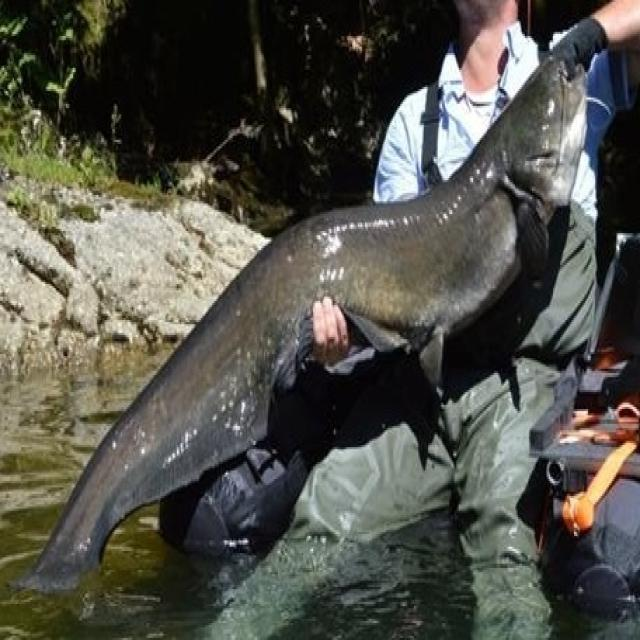Catfish: (68, 68, 592, 564)
